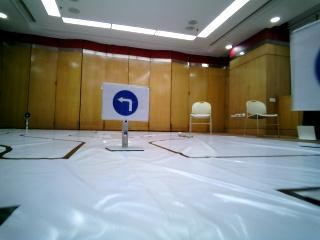left: (94, 84, 152, 120)
